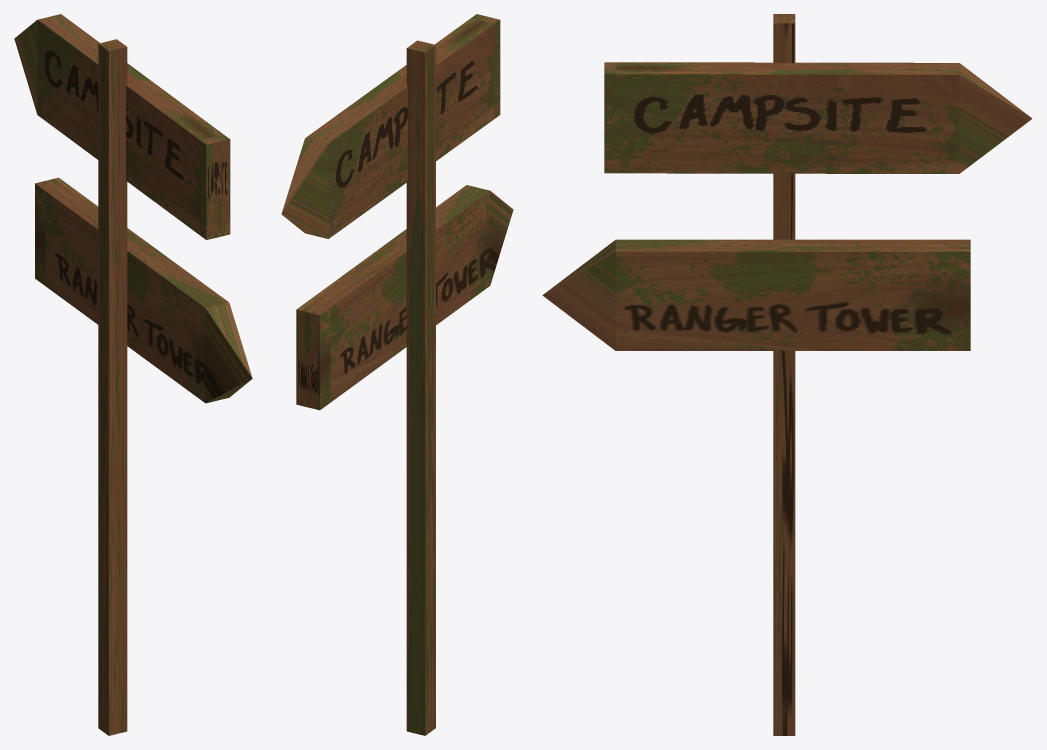
File: Sign.glb
3 views of the same model, side by side, from view 1: azimuth 30°, elevation 25°; view 2: azimuth 150°, elevation 25°; view 3: azimuth 270°, elevation 25° (orthographic). The views are drawn at different scales.
Parts seen in each view (by area): view 1: Cube, Cube.001, Cube.002; view 2: Cube, Cube.001, Cube.002; view 3: Cube.002, Cube.001, Cube.
Boxes of the visible parts, bbox=[...] form: Cube: bbox=[98, 39, 127, 735]; Cube.001: bbox=[14, 14, 230, 239]; Cube.002: bbox=[35, 177, 252, 403]; Cube: bbox=[406, 40, 435, 735]; Cube.001: bbox=[281, 14, 500, 238]; Cube.002: bbox=[296, 185, 513, 410]; Cube.002: bbox=[542, 239, 970, 350]; Cube.001: bbox=[604, 62, 1032, 173]; Cube: bbox=[773, 14, 795, 735].
Size of the model in its own units: 0.4897 by 7.15 by 4.46.
3 materials, 3 textured.
